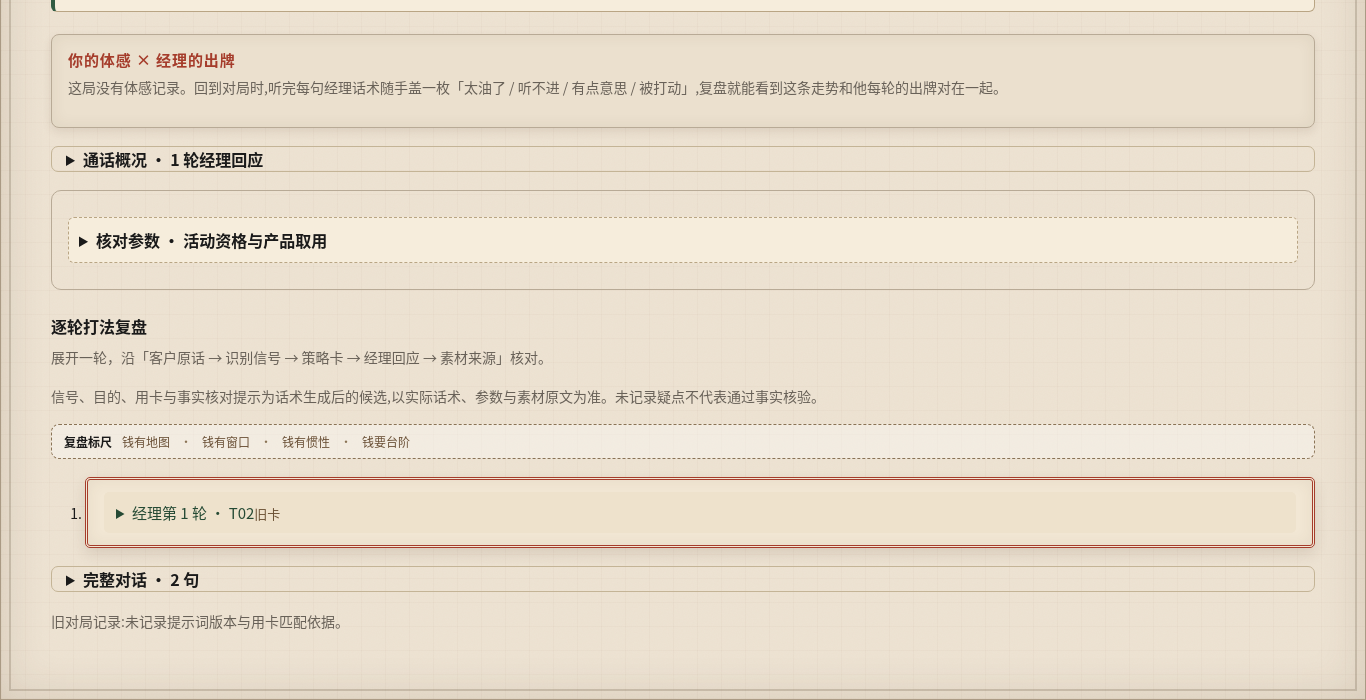
Test: 透镜改进:观察问题与两局对照 › 查看旧局参数和素材证据时如实说明未保存当时记录
The width and height of the screenshot is (1366, 700).
(page scrolled)
What coordinates should you click on to do the following:
click the heading "经理第 1 轮 · T02旧卡"
I would click on:
 (156, 513)
Its box is [104,492,1296,533].
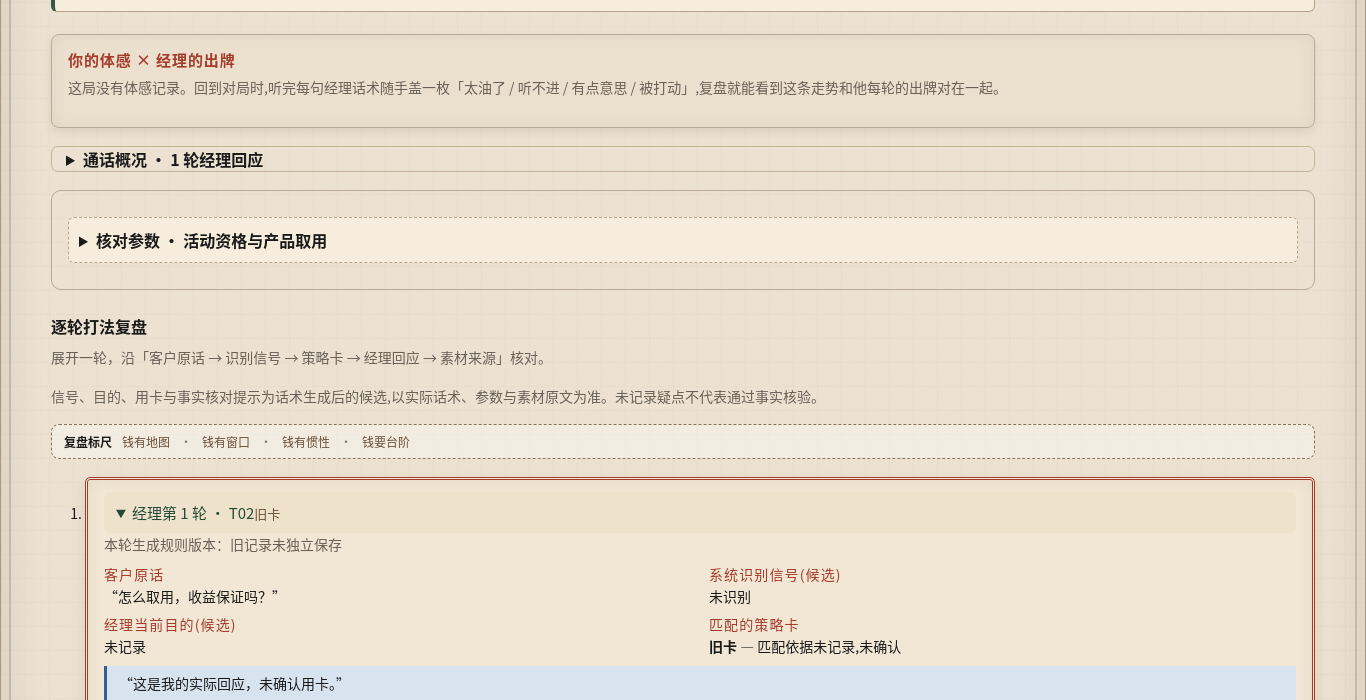
What coordinates should you click on to do the following:
click the heading "核对参数 · 活动资格与产品取用"
I would click on:
 (212, 240)
Its box is [96,228,327,252].
(page scrolled)
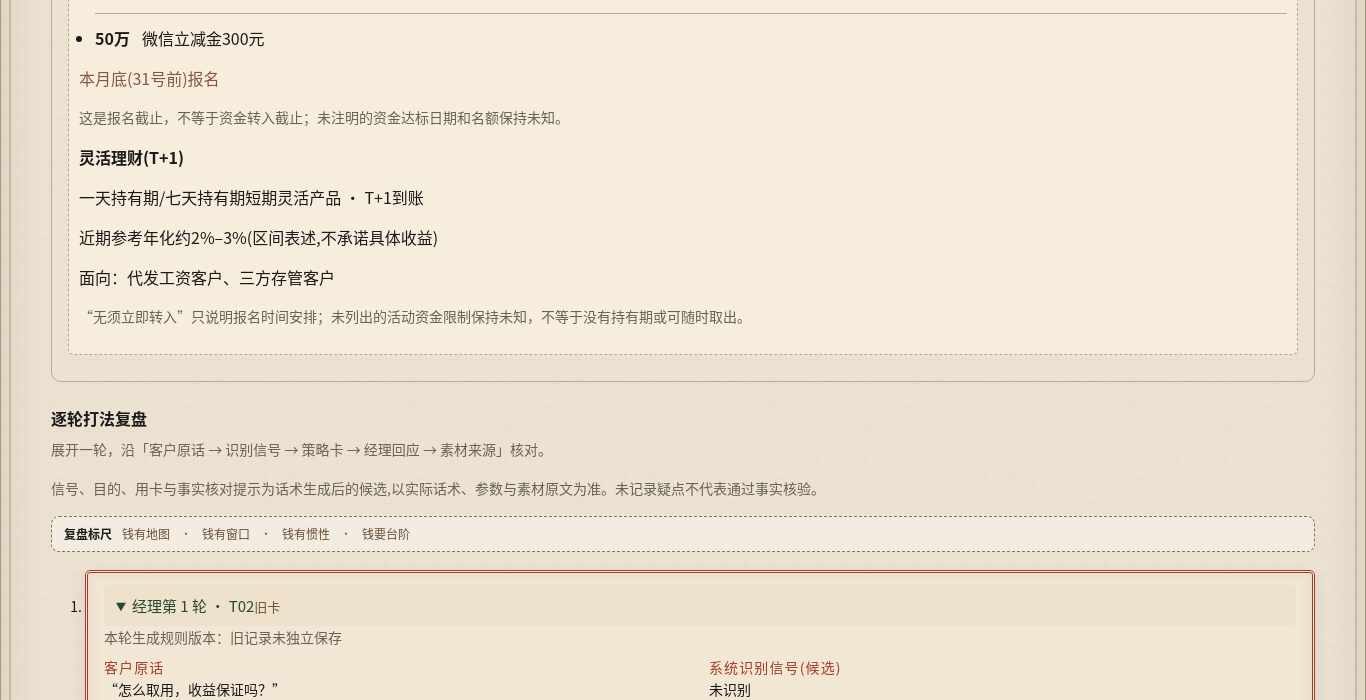
Expected: the text "“无须立即转入”只说明报名时间安排；未列出的活动资金限制保持未知，不等于没有持有期或可随时取出。" is shown, [79,306,751,326]
